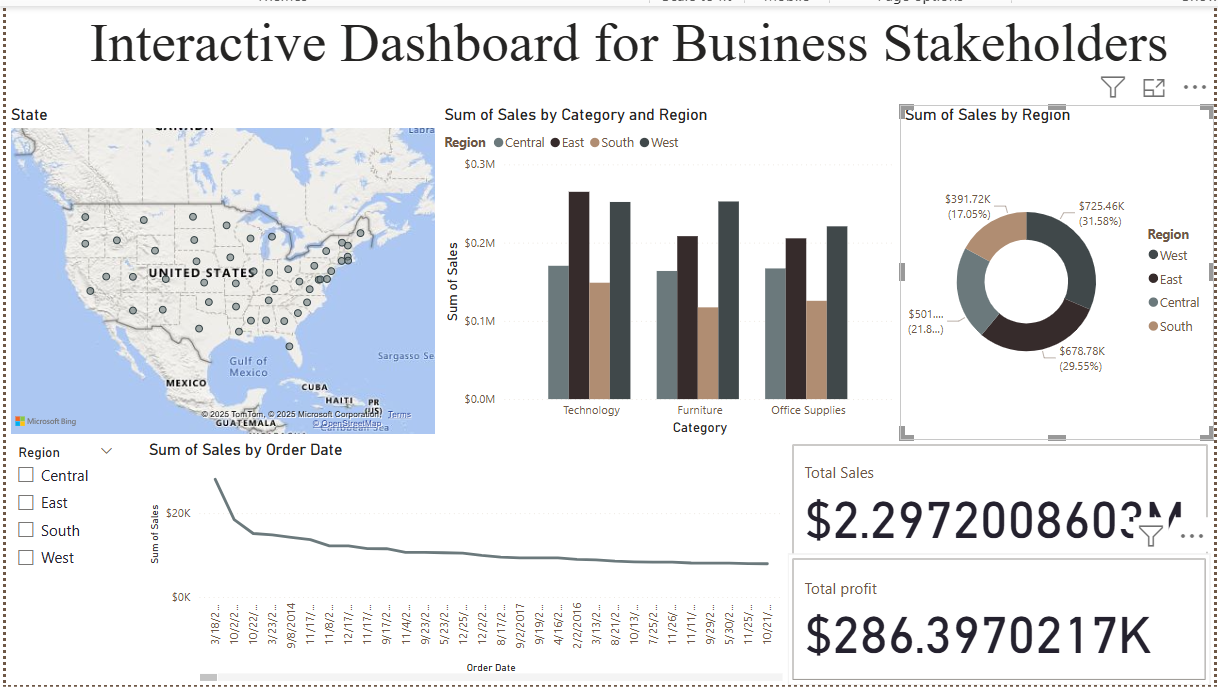

The page's visual inventory and layout, read from the dashboard file:
{"tool":"powerbi","page":{"name":"Page 1","canvas":[1280,720],"ordinal":0},"visuals":[{"type":"cardVisual","title":"    Total Sales","fields":{"Data":["Sum(Superstore.Sales)"]},"box":[828.7,459.7,450.1,136.8],"z":0},{"type":"cardVisual","fields":{"Data":["Sum(Superstore.Profit)"]},"box":[828.7,580.6,448.6,140],"z":1000},{"type":"lineChart","fields":{"Category":["Superstore.Order Date"],"Y":["Sum(Superstore.Sales)"]},"box":[146.3,459.7,682.4,260.9],"z":2000},{"type":"clusteredColumnChart","fields":{"Category":["Superstore.Category"],"Y":["Sum(Superstore.Sales)"],"Series":["Superstore.Region"]},"box":[459.7,105,488.3,354.7],"z":3000},{"type":"slicer","fields":{"Values":["Superstore.Region"]},"box":[0,459.7,125.7,260.9],"z":4000},{"type":"map","fields":{"Category":["Superstore.State"]},"box":[0,105,459.7,354.7],"z":5000},{"type":"donutChart","fields":{"Category":["Superstore.Region"],"Y":["Sum(Superstore.Sales)"]},"box":[948,105,332.4,354.7],"z":6000},{"type":"textbox","box":[0,0,1277.3,105],"z":6001}]}

Visuals, with their boxes on the page's 1280x720 design canvas (x1, y1, x2, y2). These are canvas units, not pixel positions in the 1218x687 screenshot, which may show the page scaled, cropped or inside an application window:
"    Total Sales" cardVisual: select_region(829, 460, 1279, 596)
cardVisual - Sum(Superstore.Profit): select_region(829, 581, 1277, 721)
lineChart - Superstore.Order Date x Sum(Superstore.Sales): select_region(146, 460, 829, 721)
clusteredColumnChart - Superstore.Category x Sum(Superstore.Sales): select_region(460, 105, 948, 460)
slicer - Superstore.Region: select_region(0, 460, 126, 721)
map - Superstore.State: select_region(0, 105, 460, 460)
donutChart - Superstore.Region x Sum(Superstore.Sales): select_region(948, 105, 1280, 460)
textbox: select_region(0, 0, 1277, 105)
